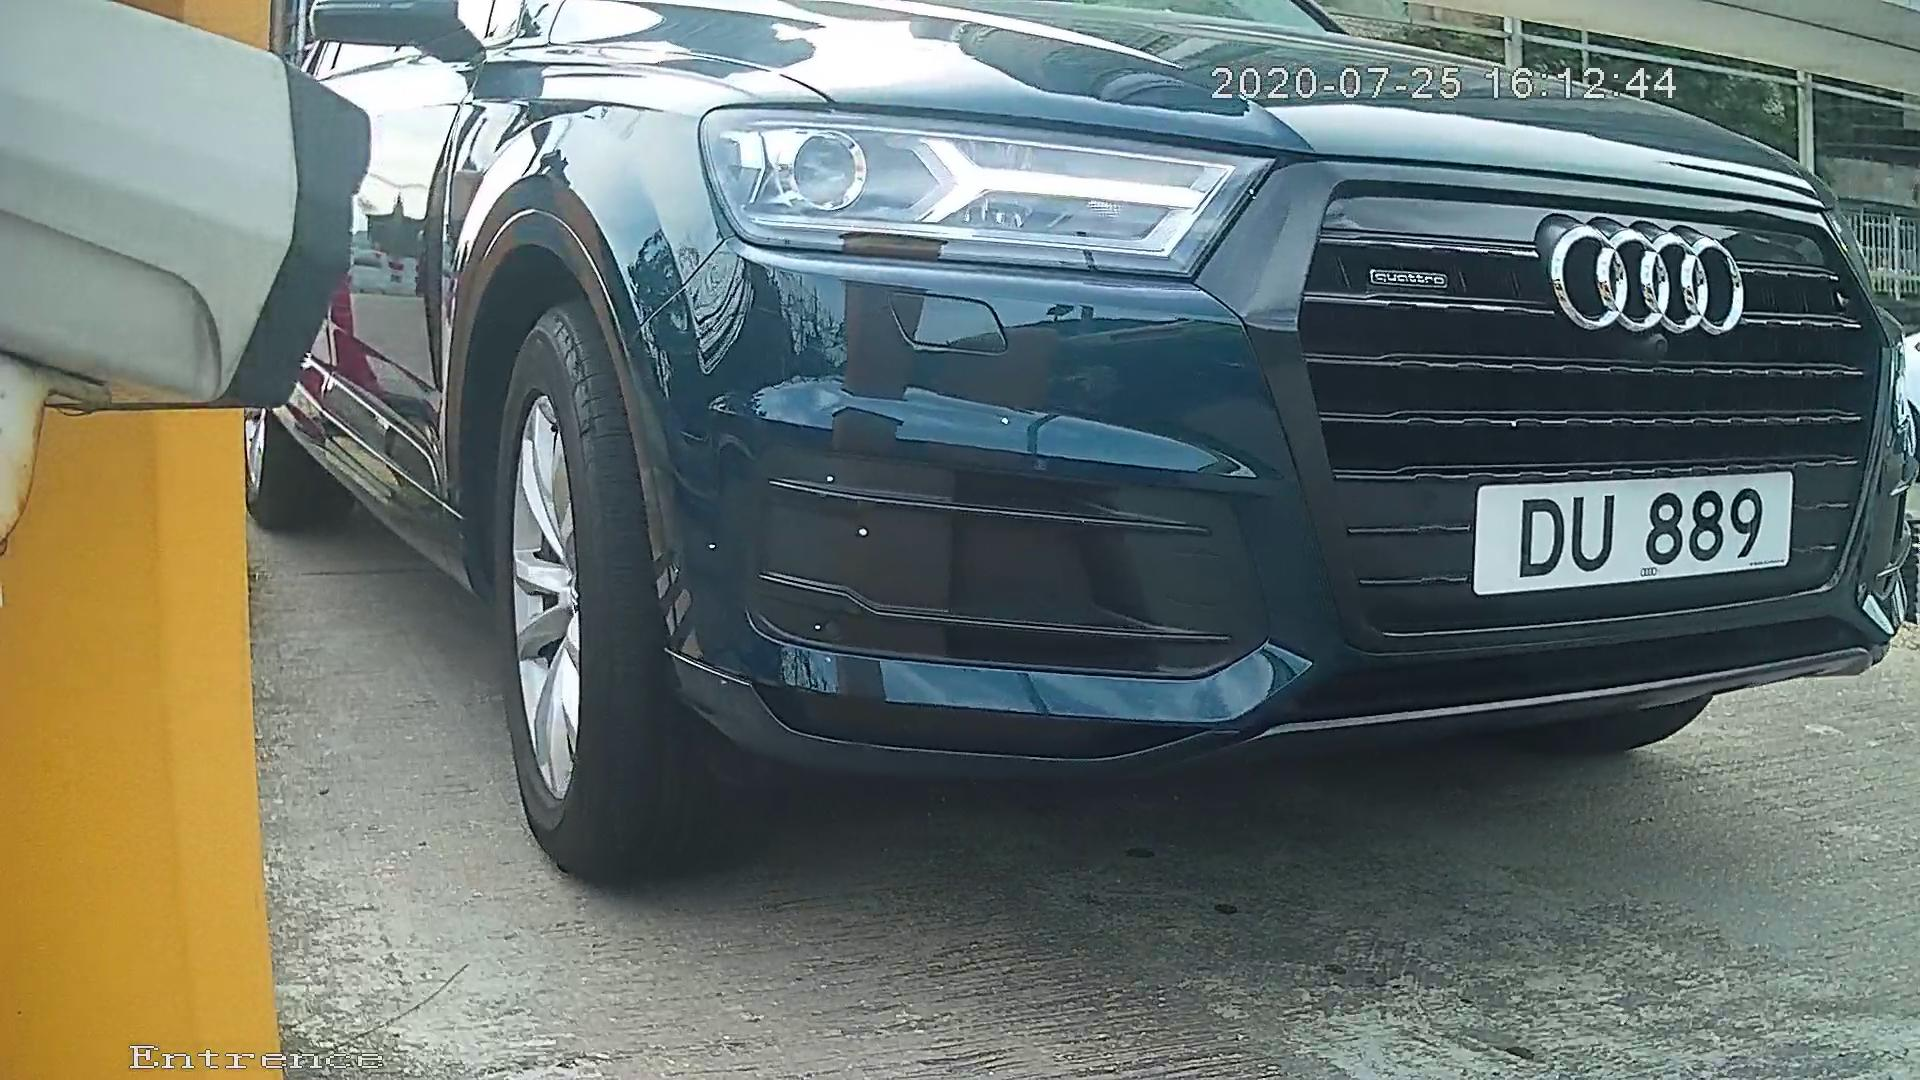License Plate: (1432, 444, 1835, 618)
